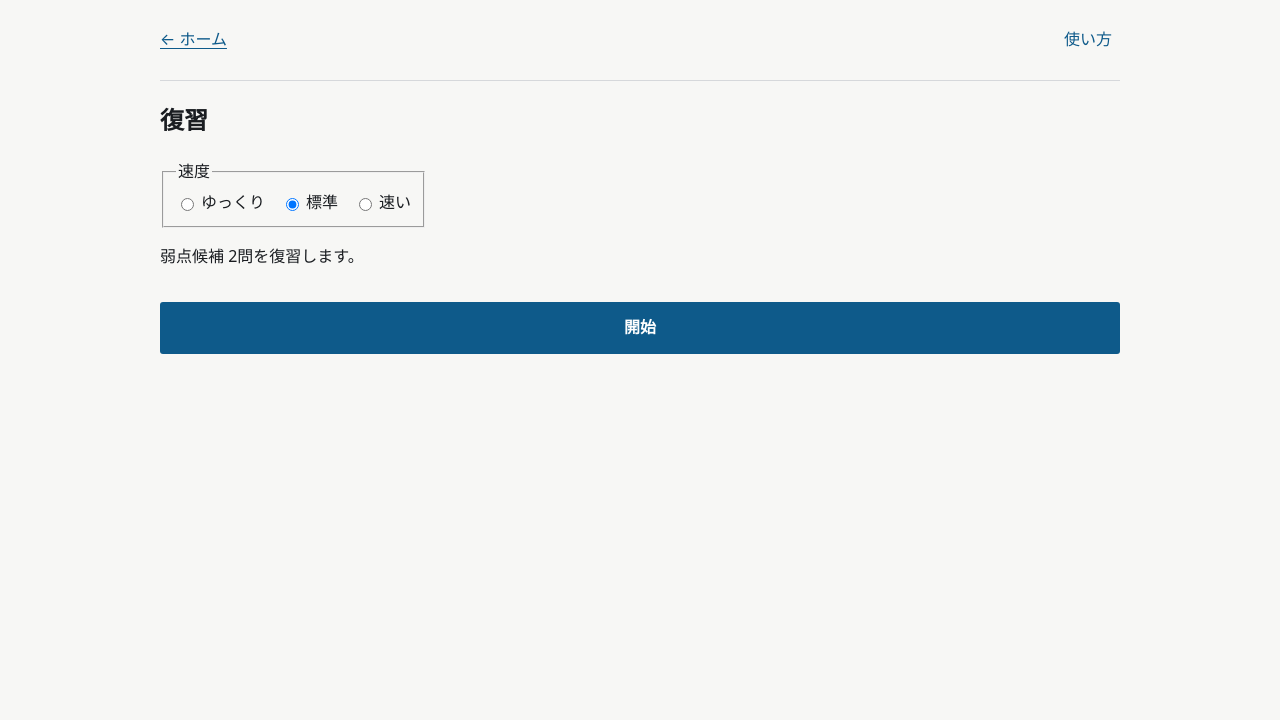
Review Drill › becomes empty when every weak question receives known
The width and height of the screenshot is (1280, 720).
Step 1. Click the button "開始" → (640, 328), box [160,302,1120,354]
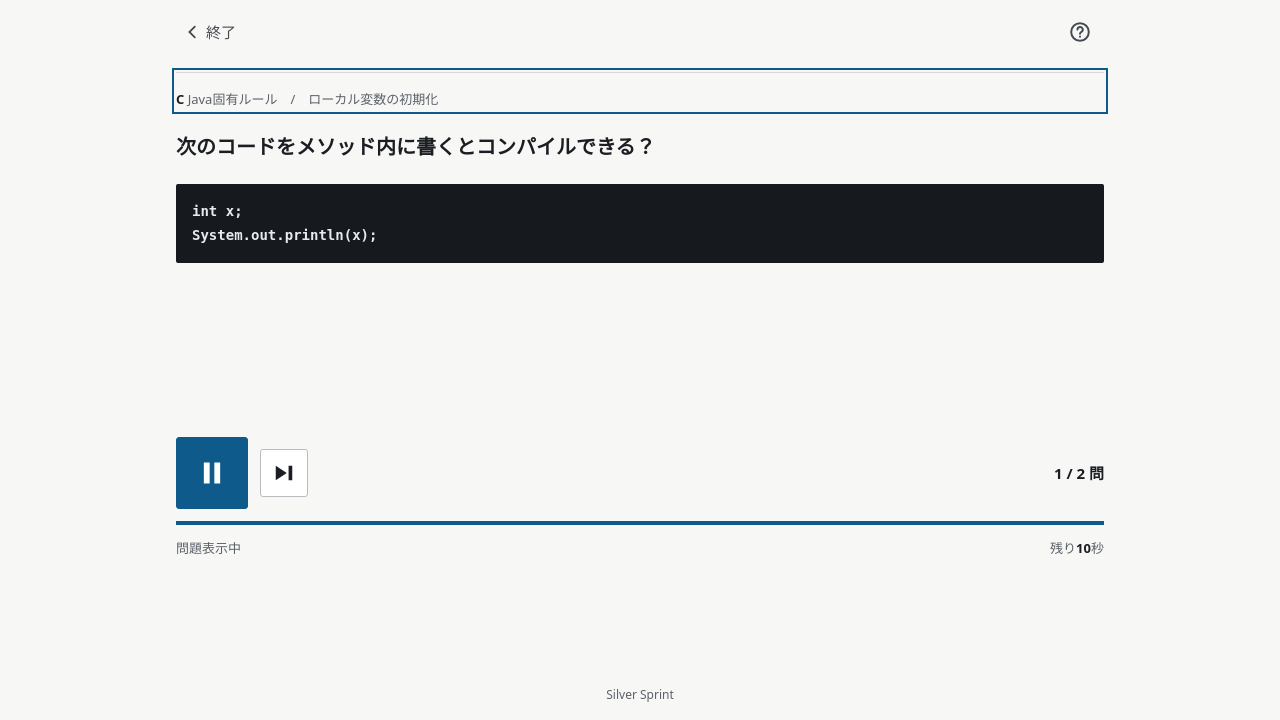
Step 2. Click the button named "答えを見る" → (284, 473), box [260,449,308,497]
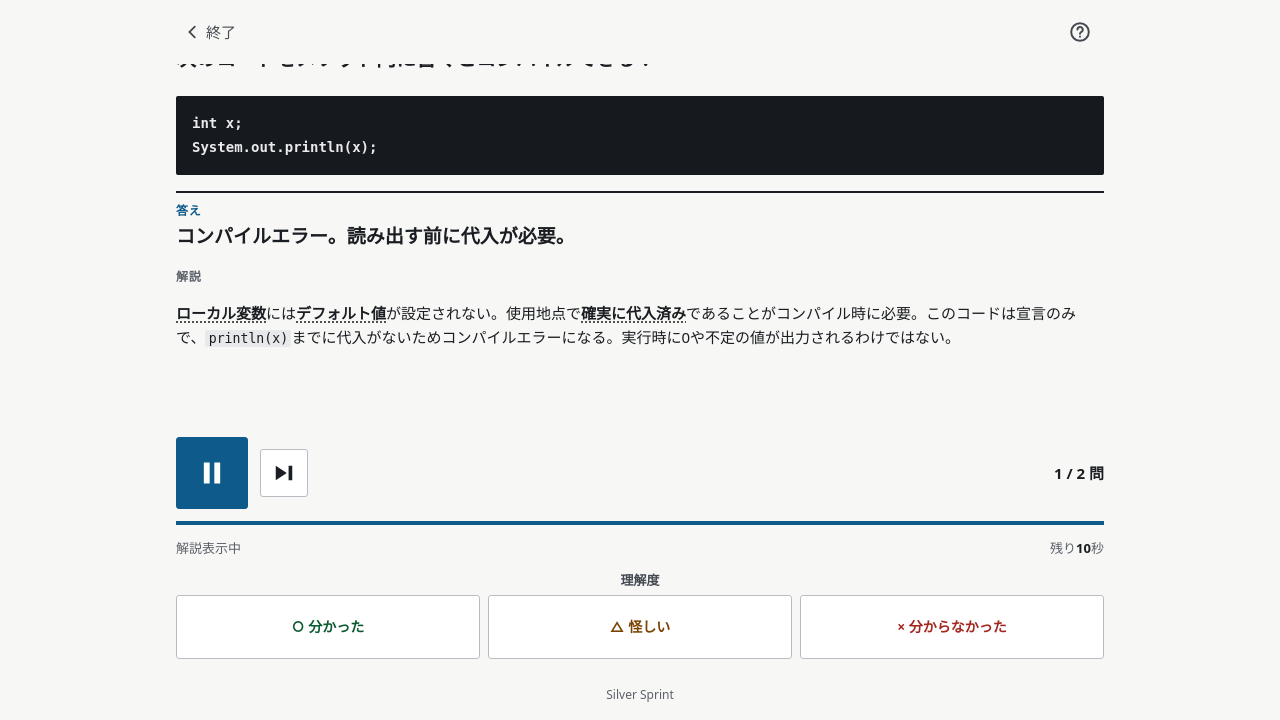
Step 3. Click the button "○ 分かった" → (328, 627), box [176,595,480,659]
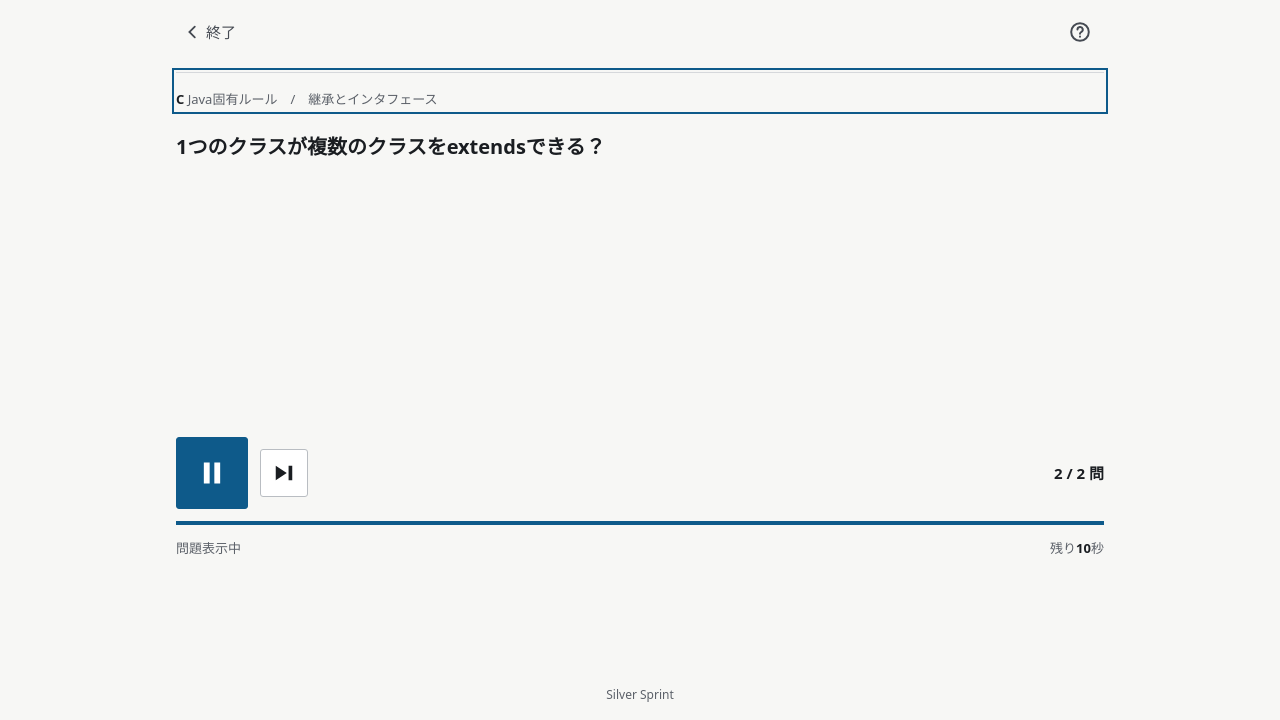
Expected: the message reads "2 / 2 問", [1054,461,1104,485]
Step 4. Click the button named "答えを見る" → (284, 473), box [260,449,308,497]
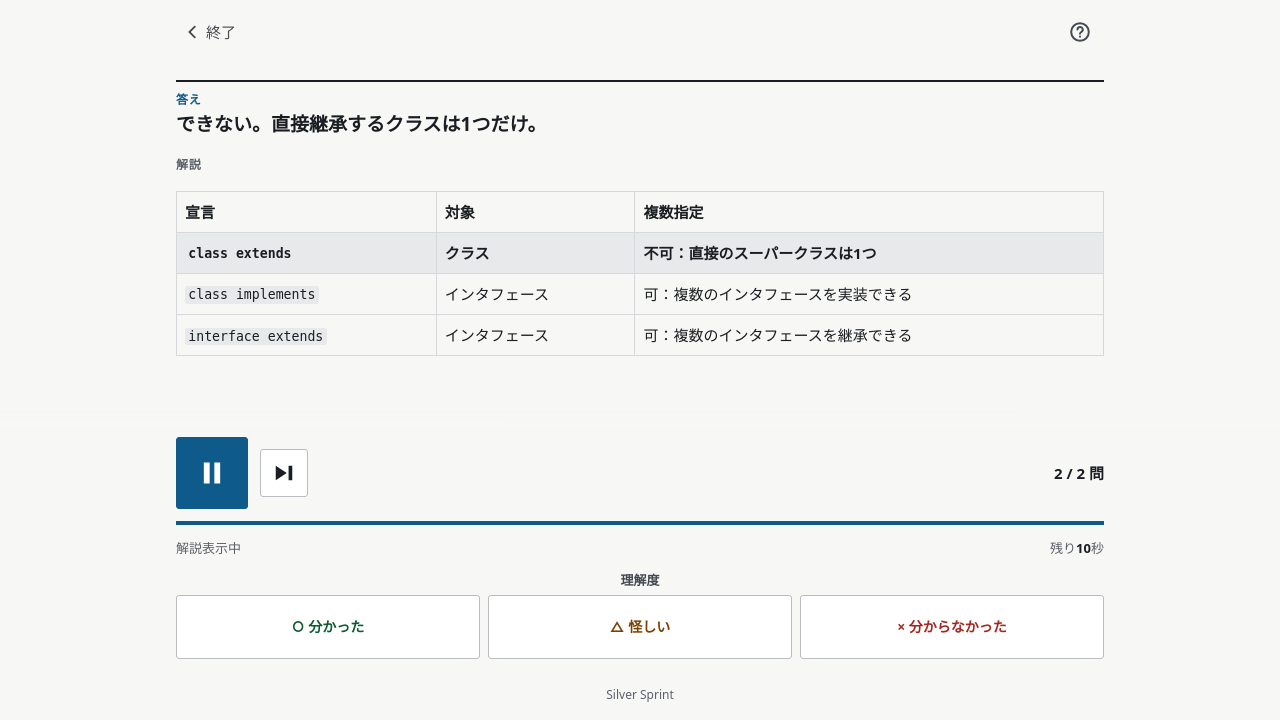
Step 5. Click the button "○ 分かった" → (328, 627), box [176,595,480,659]
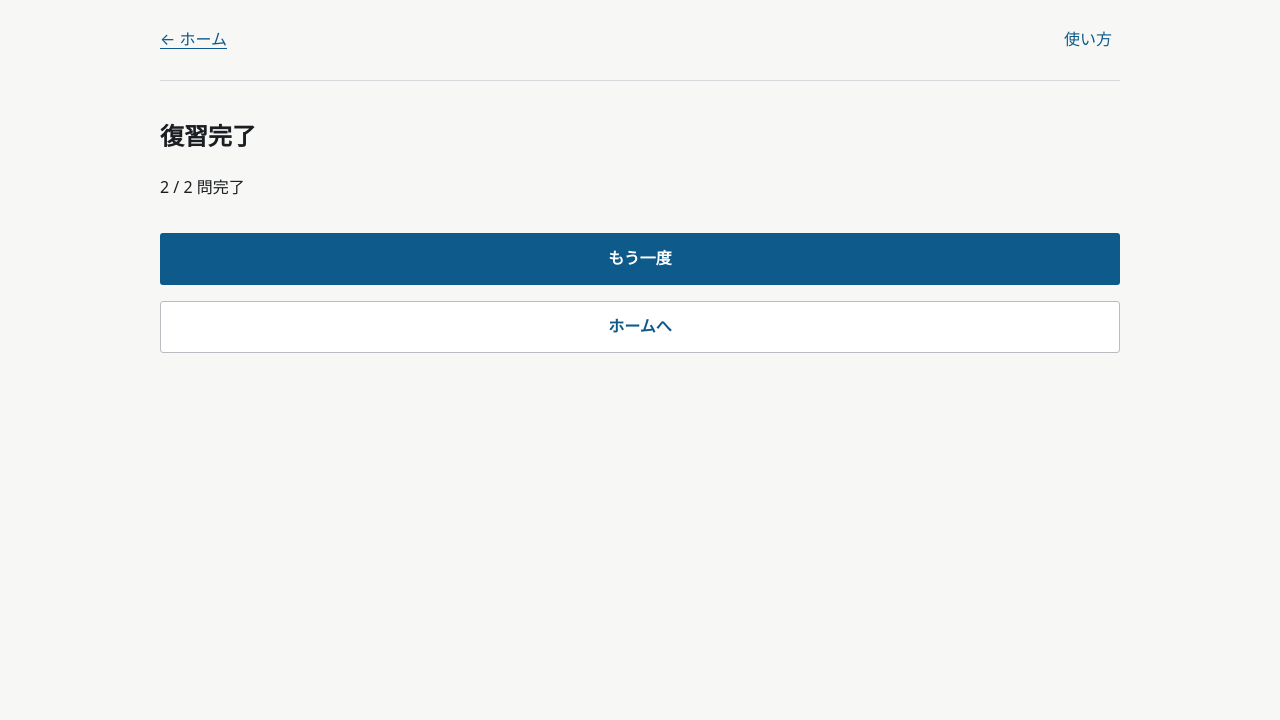
Step 6. Click the button "もう一度" → (640, 259), box [160,233,1120,285]
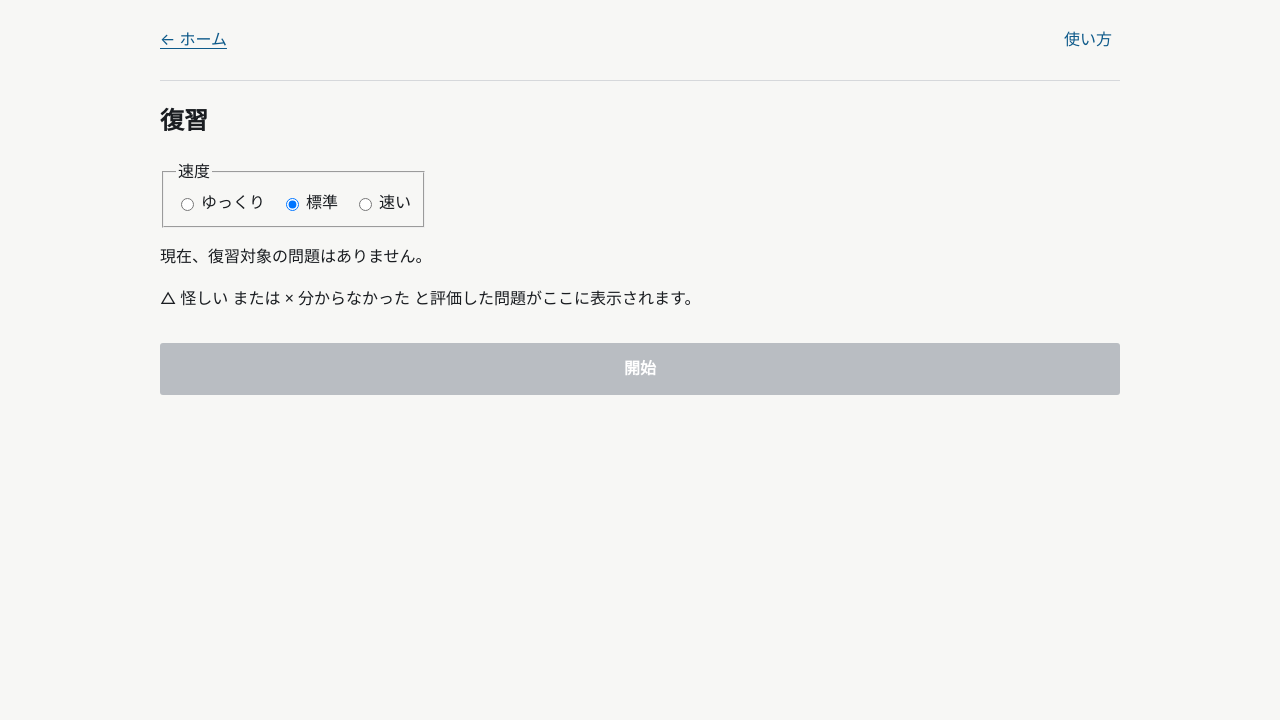
Expected: the text "現在、復習対象の問題はありません。" is shown, [160,245,432,267]
Expected: the button "開始" is disabled, [160,343,1120,395]
